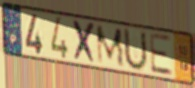4: (49, 15, 70, 61), (24, 11, 45, 57)
E: (148, 31, 174, 78)
M: (94, 24, 126, 69)
U: (123, 26, 149, 73)
X: (71, 18, 98, 66)
